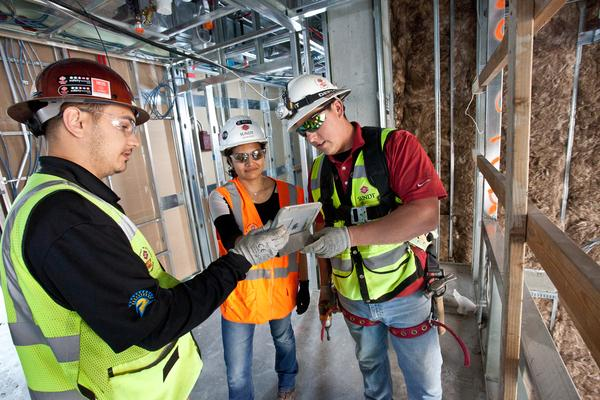helmet: (35, 58, 149, 121), (287, 76, 350, 130), (220, 115, 270, 154)
